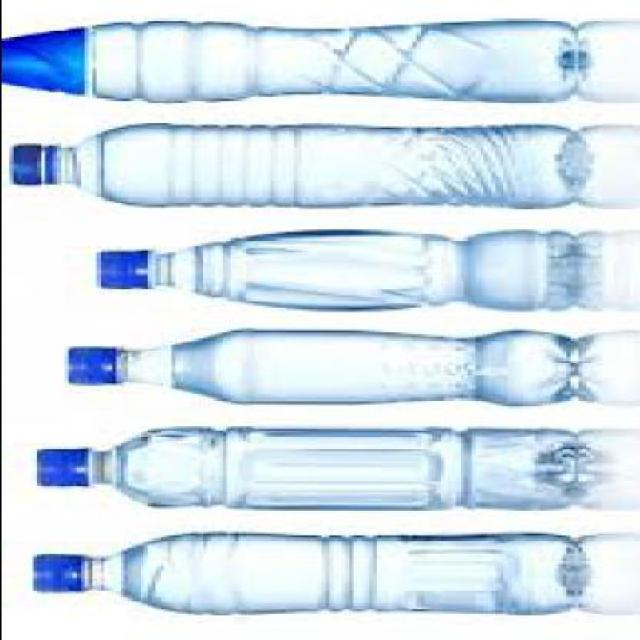PLASTIC: (1, 22, 577, 106), (4, 127, 581, 210), (27, 534, 581, 618), (32, 431, 576, 511), (90, 232, 573, 314), (62, 332, 573, 408), (2, 28, 83, 100), (60, 348, 118, 388), (28, 451, 86, 491), (4, 146, 56, 188), (91, 252, 143, 292), (28, 558, 83, 594)
